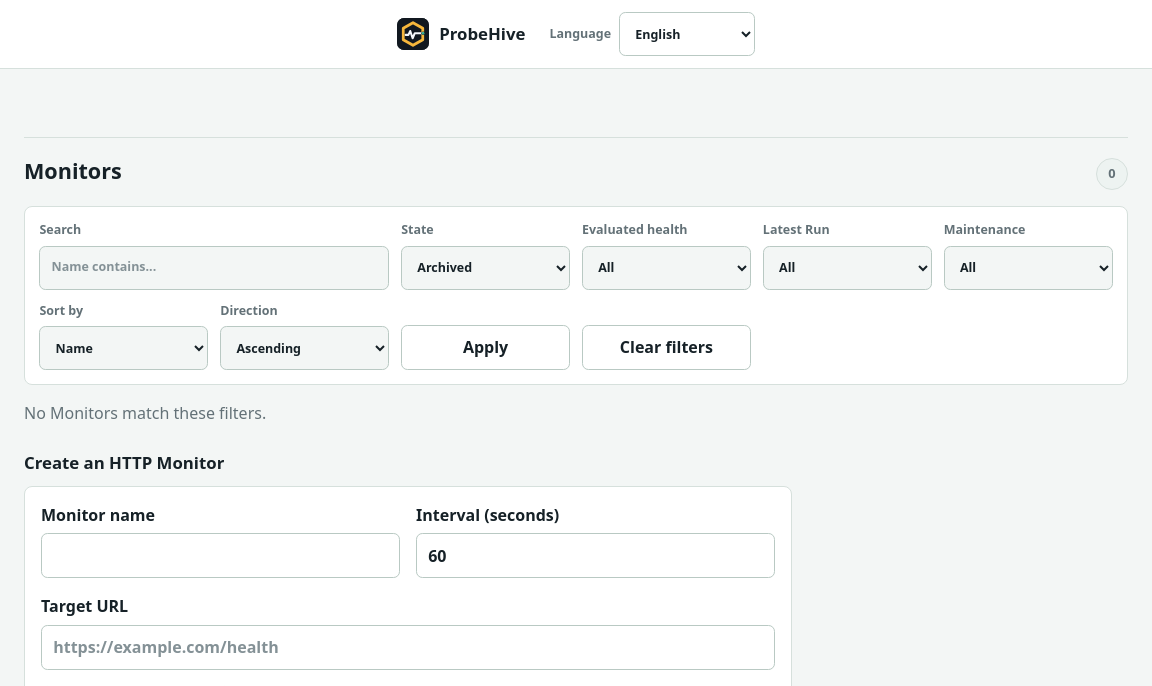
recovers from an empty filtered result
Expected: the text "No Monitors match these filters." is shown, [24, 402, 266, 424]
Click the button "Clear filters" at (666, 347), box [582, 325, 751, 370]
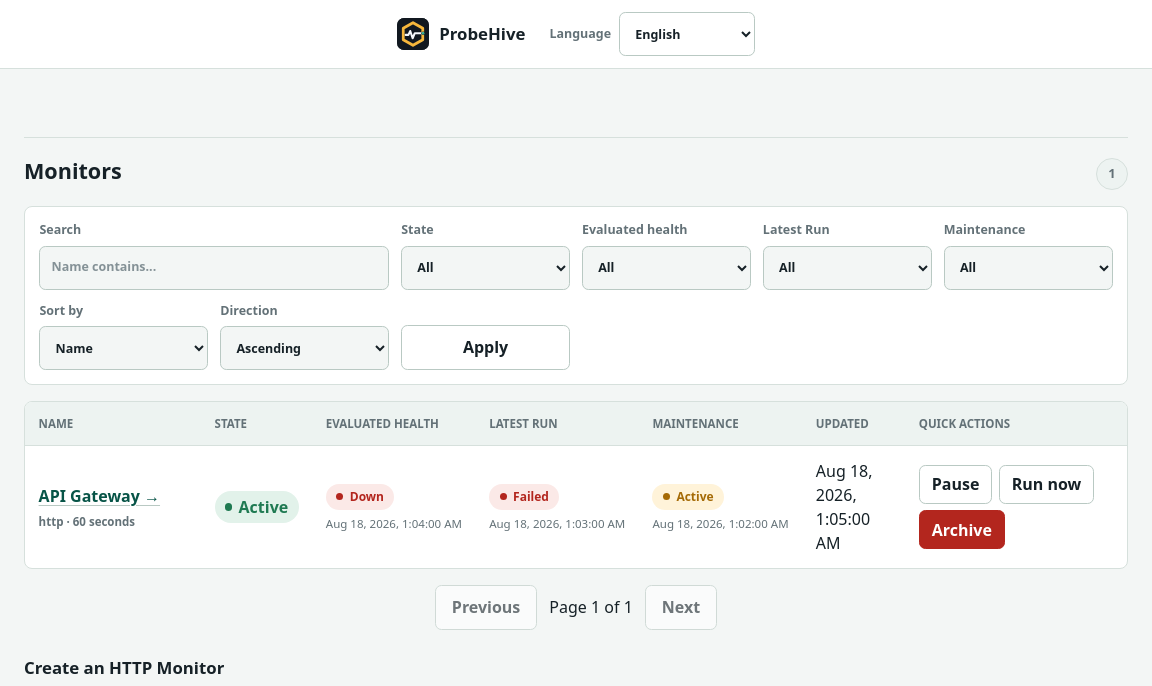
Now the link "API Gateway →" is shown, box [39, 485, 160, 507]
Now the dropdown labelled "State" shows "All", box [401, 246, 570, 290]
